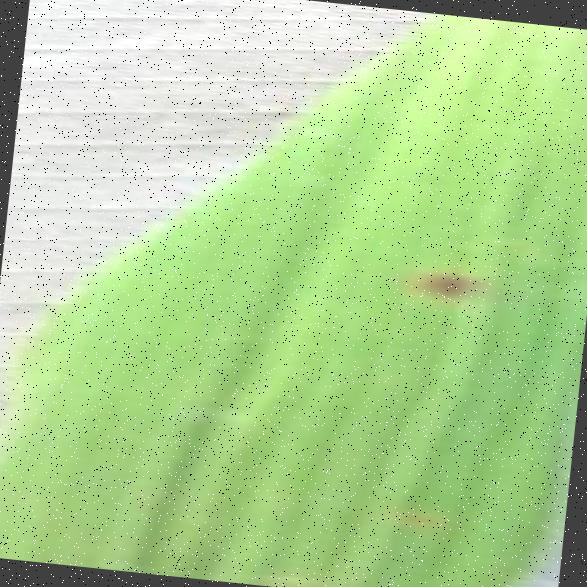Brown_Spot: (398, 240, 496, 324)
